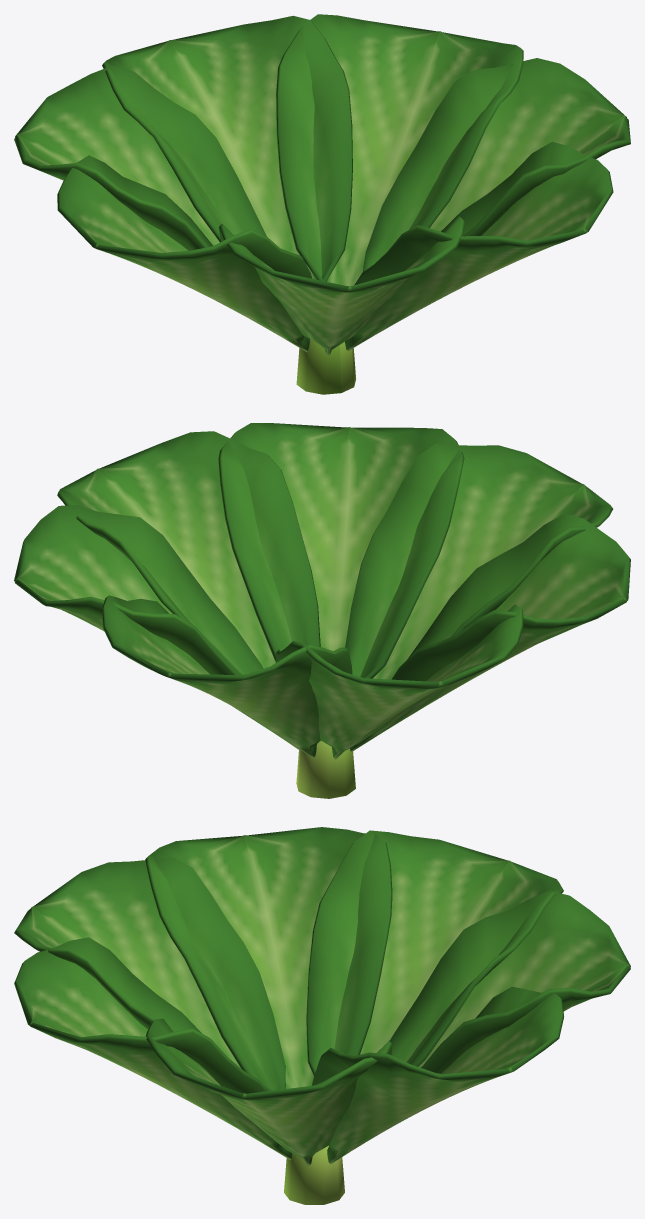
Rendered from NP_Cabbage_Young.fbx.
The picture shows the model from 3 angles, top to bottom: view 1: azimuth 30°, elevation 25°; view 2: azimuth 150°, elevation 25°; view 3: azimuth 270°, elevation 25°; orthographic projection.
Parts seen in each view (by area): view 1: NP_Cabbage_Young; view 2: NP_Cabbage_Young; view 3: NP_Cabbage_Young.
Boxes of the visible parts, <box> form: NP_Cabbage_Young: <box>14,14,630,394</box>; NP_Cabbage_Young: <box>14,423,630,798</box>; NP_Cabbage_Young: <box>14,827,630,1204</box>.
Size of the model in its own units: 50.54 by 22.89 by 50.4.
